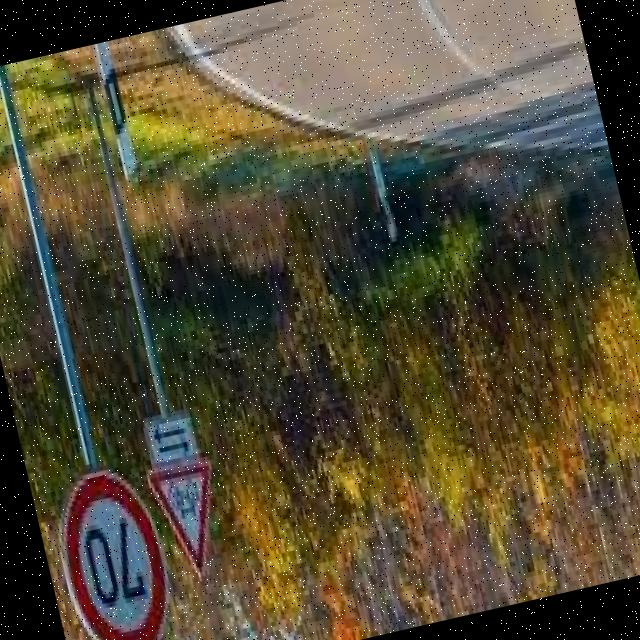speed_limit_70: (45, 455, 194, 640)
